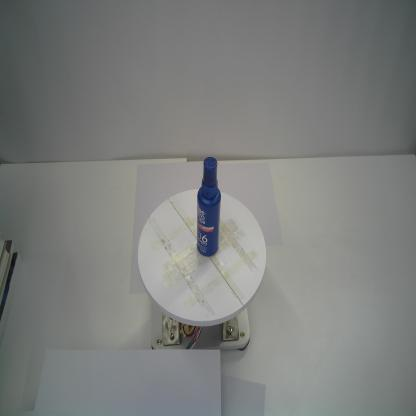Personal Hygiene: (196, 156, 221, 260)
